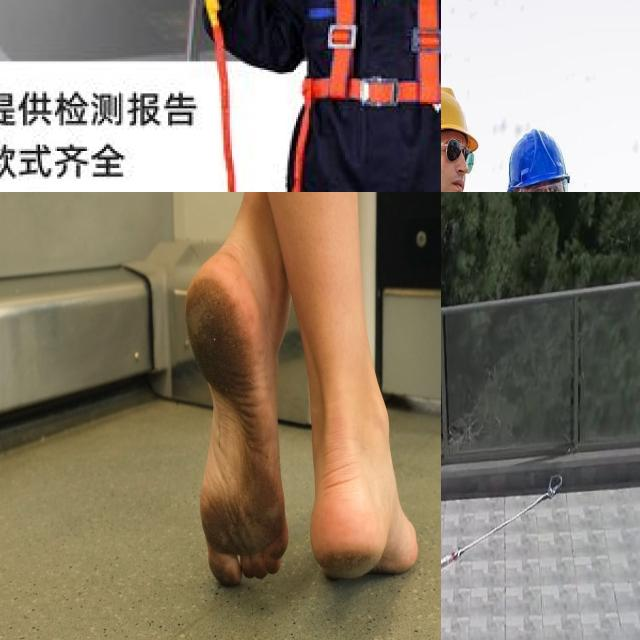Barefoots: (185, 249, 288, 587), (310, 442, 418, 580)
Harness: (289, 0, 441, 192), (441, 475, 564, 571)
face_nomask: (441, 127, 472, 192), (510, 174, 575, 192)
glasses: (441, 134, 476, 176), (516, 177, 571, 192)
head_helmet: (501, 127, 577, 183), (441, 85, 481, 150)
person: (492, 127, 625, 192)
